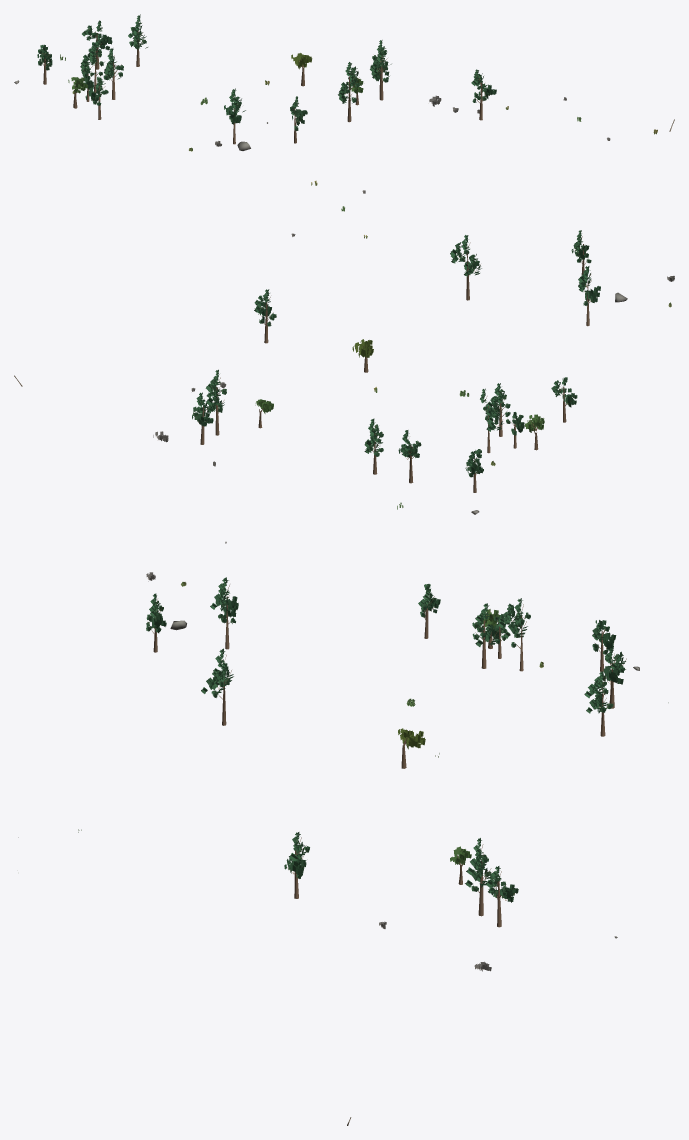
The model's file is arch_land_scatter_c21_18.glb.
3 views of the same model, one above another, from view 1: azimuth 30°, elevation 25°; view 2: azimuth 150°, elevation 25°; view 3: azimuth 270°, elevation 25° (orthographic). The views are drawn at different scales.
Parts seen in each view (by area): view 1: arch_land_scatter_c21_18; view 2: arch_land_scatter_c21_18; view 3: arch_land_scatter_c21_18.
Part boxes in pixels (bbox=[...]): arch_land_scatter_c21_18: bbox=[14, 14, 674, 151]; arch_land_scatter_c21_18: bbox=[14, 180, 674, 543]; arch_land_scatter_c21_18: bbox=[18, 572, 668, 1125].
Bounding box in the file's own units: 122 × 42 × 98.97.
